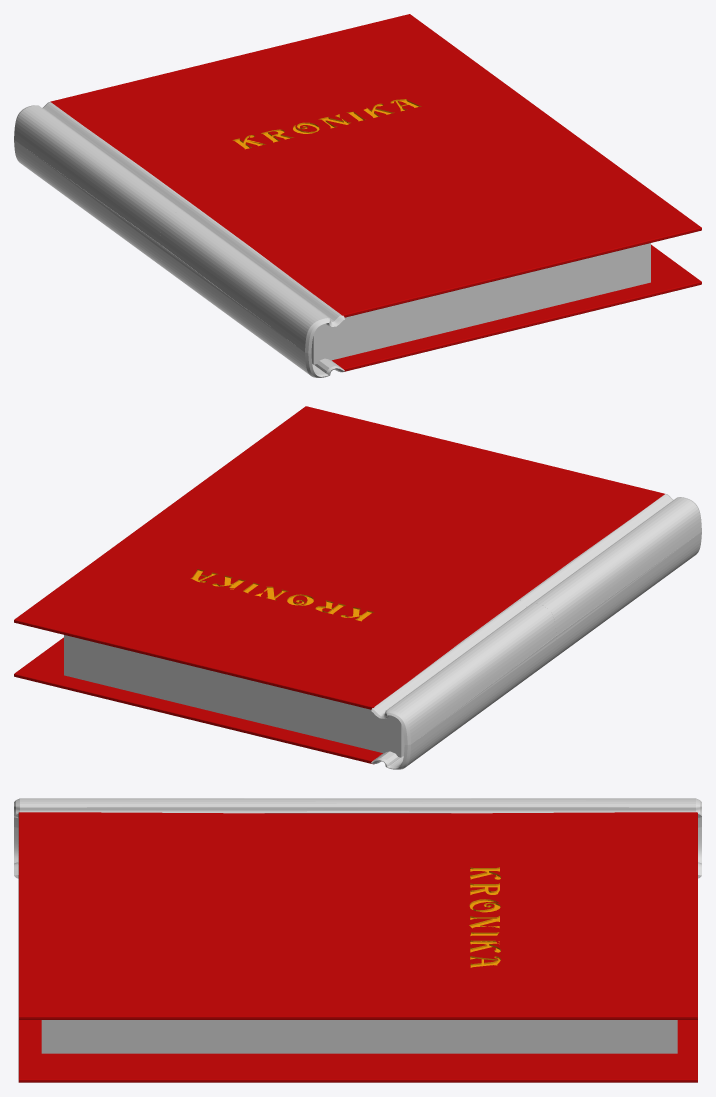
Rendered from AnimatedBook.fbx.
3 views of the same model, one above another, from view 1: azimuth 30°, elevation 25°; view 2: azimuth 150°, elevation 25°; view 3: azimuth 270°, elevation 25° (orthographic). The views are drawn at different scales.
Parts seen in each view (by area): view 1: Desky predni, Box02, Line01, Line04, ChamferBox02, Line02, Line03; view 2: Desky predni, Box02, Line04, Line01, ChamferBox02, Line03, Line02; view 3: Desky predni, ChamferBox02, Box02, Line01, Line04.
Boxes of the visible parts, bbox=[...] form: Desky predni: bbox=[50, 14, 701, 317]; Box02: bbox=[311, 243, 650, 364]; Line01: bbox=[159, 208, 344, 353]; Line04: bbox=[14, 102, 196, 247]; ChamferBox02: bbox=[332, 244, 701, 371]; Line02: bbox=[159, 244, 344, 377]; Line03: bbox=[14, 140, 164, 268]; Desky predni: bbox=[14, 406, 664, 709]; Box02: bbox=[64, 635, 404, 757]; Line04: bbox=[371, 600, 556, 744]; Line01: bbox=[519, 494, 701, 639]; ChamferBox02: bbox=[14, 637, 382, 764]; Line03: bbox=[371, 636, 556, 769]; Line02: bbox=[551, 532, 701, 660]; Desky predni: bbox=[18, 812, 697, 1019]; ChamferBox02: bbox=[18, 1020, 697, 1082]; Box02: bbox=[41, 1020, 677, 1053]; Line01: bbox=[14, 798, 357, 827]; Line04: bbox=[358, 798, 701, 827].
Size of the model in its own units: 25.86 by 3.68 by 33.41.
